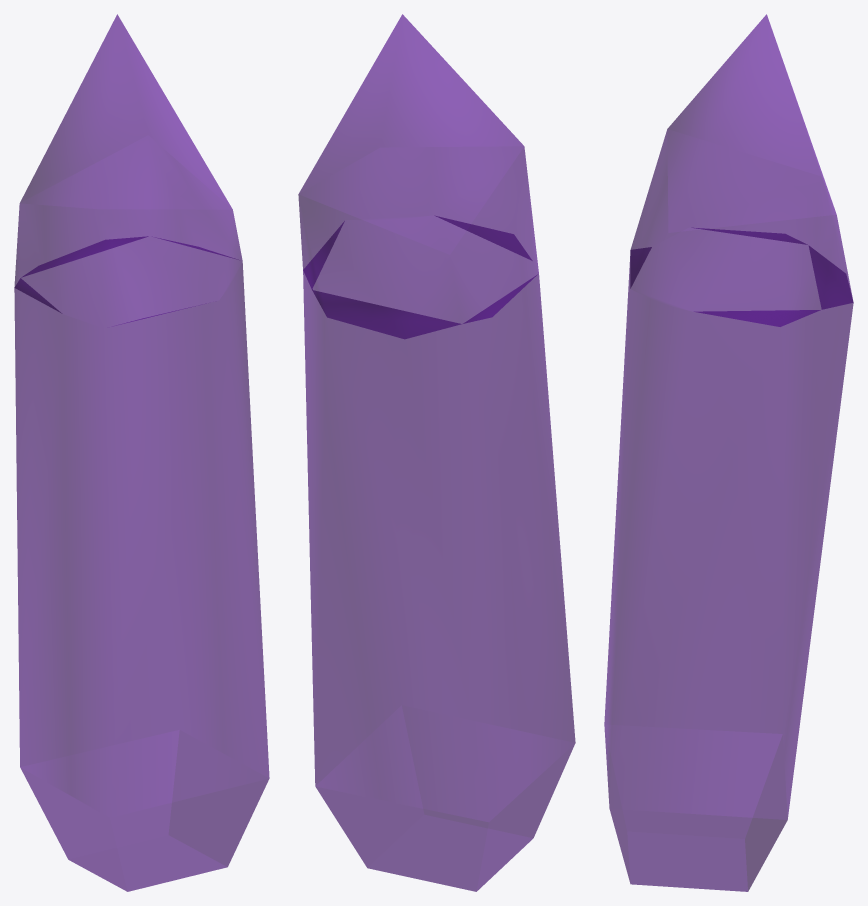
The model's file is CrystalPurple.fbx.
3 views of the same model, side by side, from view 1: azimuth 30°, elevation 25°; view 2: azimuth 150°, elevation 25°; view 3: azimuth 270°, elevation 25° (orthographic). The views are drawn at different scales.
Visible parts, largest first — view 1: pasted__pCube1; view 2: pasted__pCube1; view 3: pasted__pCube1.
Boxes of the visible parts, <box> form: pasted__pCube1: <box>14,14,269,891</box>; pasted__pCube1: <box>298,14,575,891</box>; pasted__pCube1: <box>604,14,853,891</box>.
Bounding box in the file's own units: 0.2407 × 1.03 × 0.2724.
